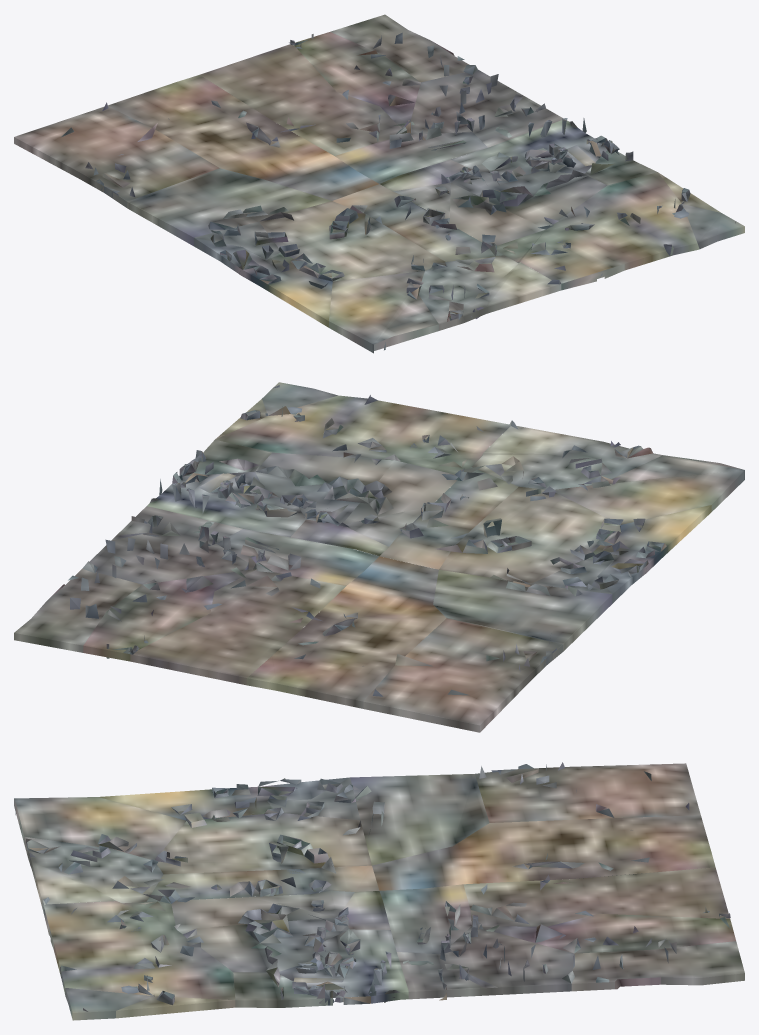
The picture shows the model from 3 angles, top to bottom: view 1: azimuth 30°, elevation 25°; view 2: azimuth 150°, elevation 25°; view 3: azimuth 270°, elevation 25°; orthographic projection. The views are drawn at different scales.
Parts seen in each view (by area): view 1: Mesh_0; view 2: Mesh_0; view 3: Mesh_0.
Part boxes in pixels (left/top/right/bottom): Mesh_0: left=14, top=14, right=744, bottom=353; Mesh_0: left=14, top=382, right=744, bottom=732; Mesh_0: left=14, top=762, right=744, bottom=1020.
Size of the model in its own units: 2129 by 149 by 2637.
Materials: 1 (1 with a texture image).
